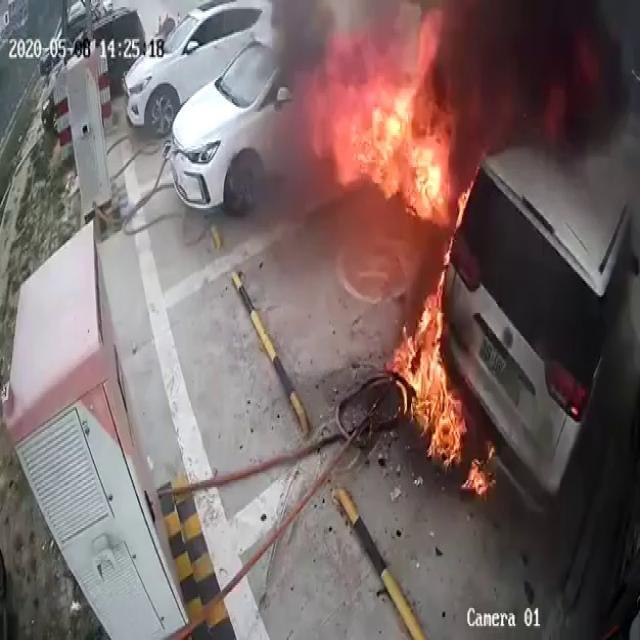Fire: (324, 25, 474, 464)
Smoke: (450, 0, 640, 198)
